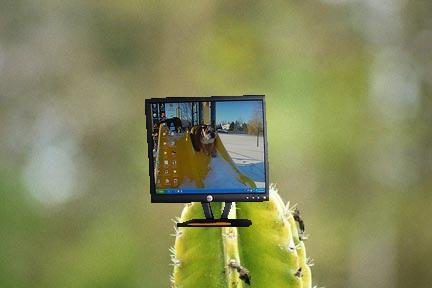tampered: (146, 96, 269, 227)
